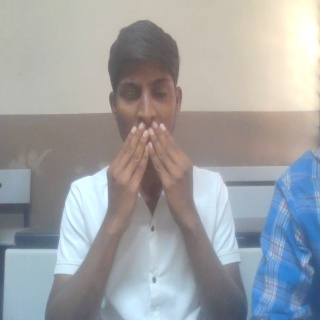Thank You: (103, 120, 205, 233)
